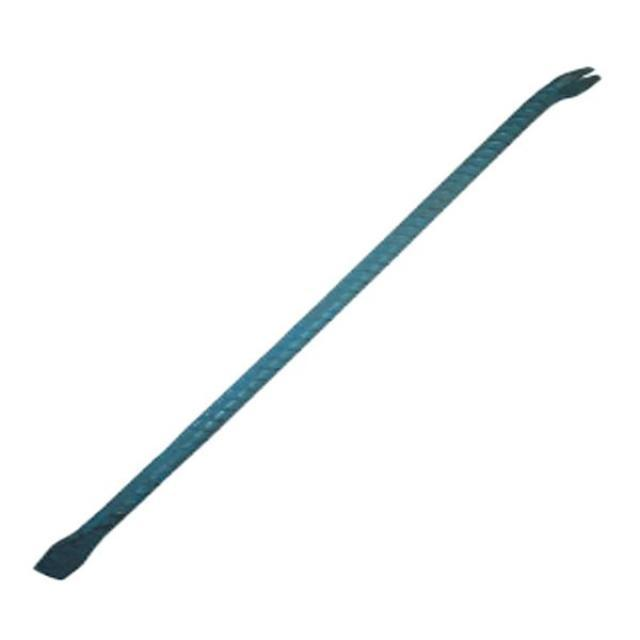Linggis: (22, 39, 599, 592)
